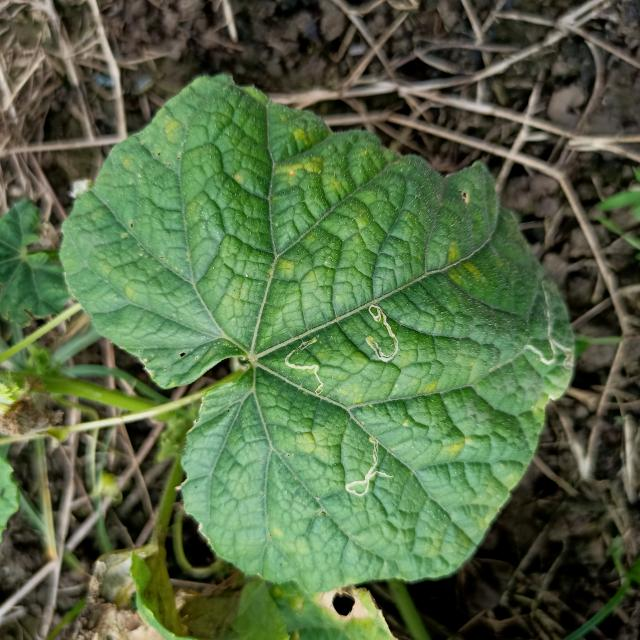disease_cucumber: (276, 122, 326, 186), (443, 244, 480, 285), (442, 434, 472, 458)
